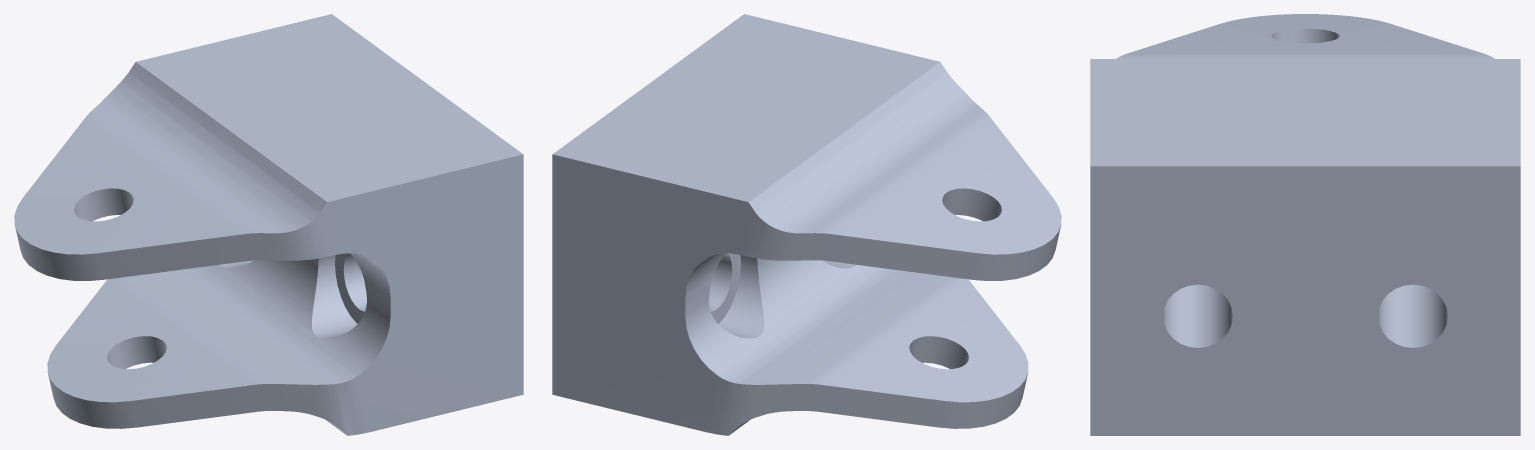
The model's file is Rear_Left_Corner_Wheel_Assembly__UA_26_Rear_Left_UBJ_Tab_1.dae.
3 renders of one model, left to right at view 1: azimuth 30°, elevation 25°; view 2: azimuth 150°, elevation 25°; view 3: azimuth 270°, elevation 25°, orthographic. The views are drawn at different scales.
Parts seen in each view (by area): view 1: node0; view 2: node0; view 3: node0.
Part boxes in pixels (x1,y1,x2,y2): node0: [14, 14, 523, 435]; node0: [552, 14, 1061, 435]; node0: [1090, 14, 1520, 435].
Size of the model in its own units: 0.0483 by 0.028 by 0.04.
